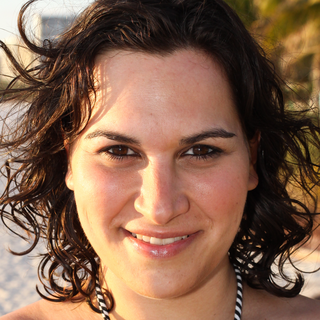eye: (93, 135, 149, 171), (169, 134, 227, 167)
